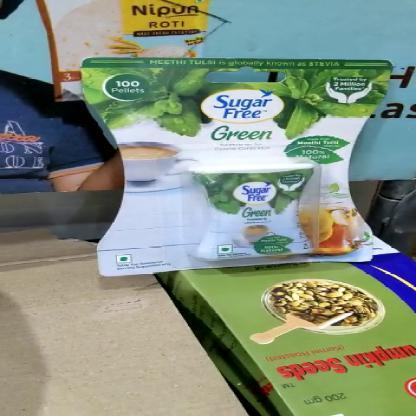SUGAR FREE GRN 300 PELLET: (85, 57, 383, 278)
